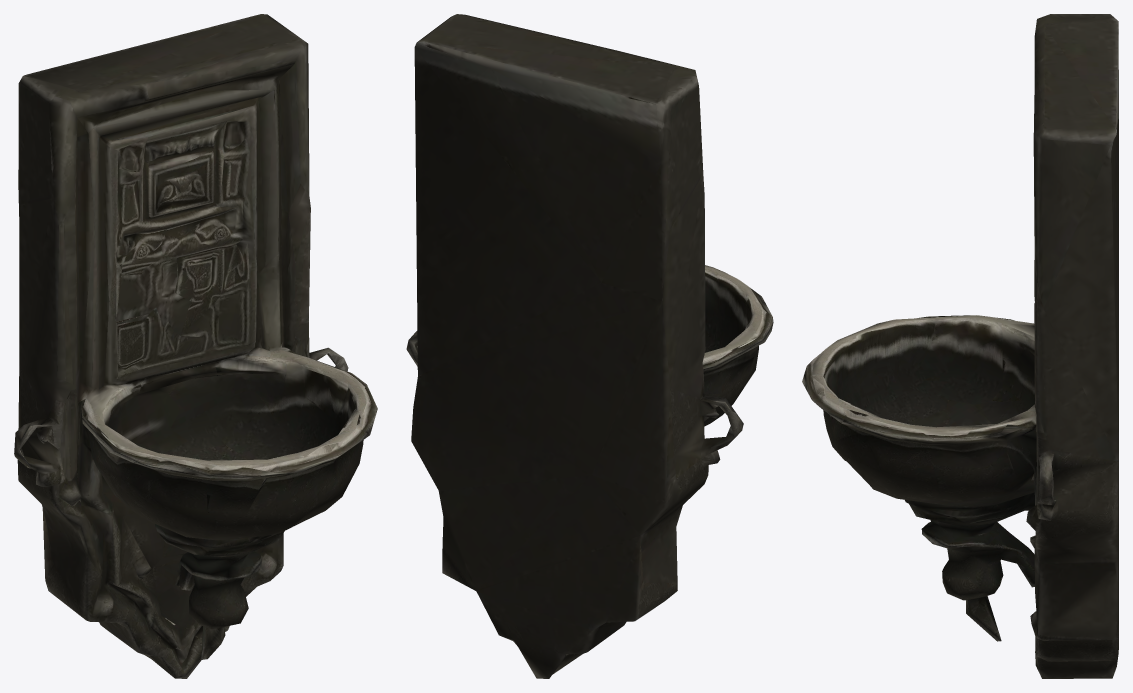
The model's file is wall_lamp.glb.
The picture shows the model from 3 angles, left to right: view 1: azimuth 30°, elevation 25°; view 2: azimuth 150°, elevation 25°; view 3: azimuth 270°, elevation 25°; orthographic projection.
Size of the model in its own units: 1.08 by 1.9 by 0.9007.
Materials: 1 (1 with a texture image).
